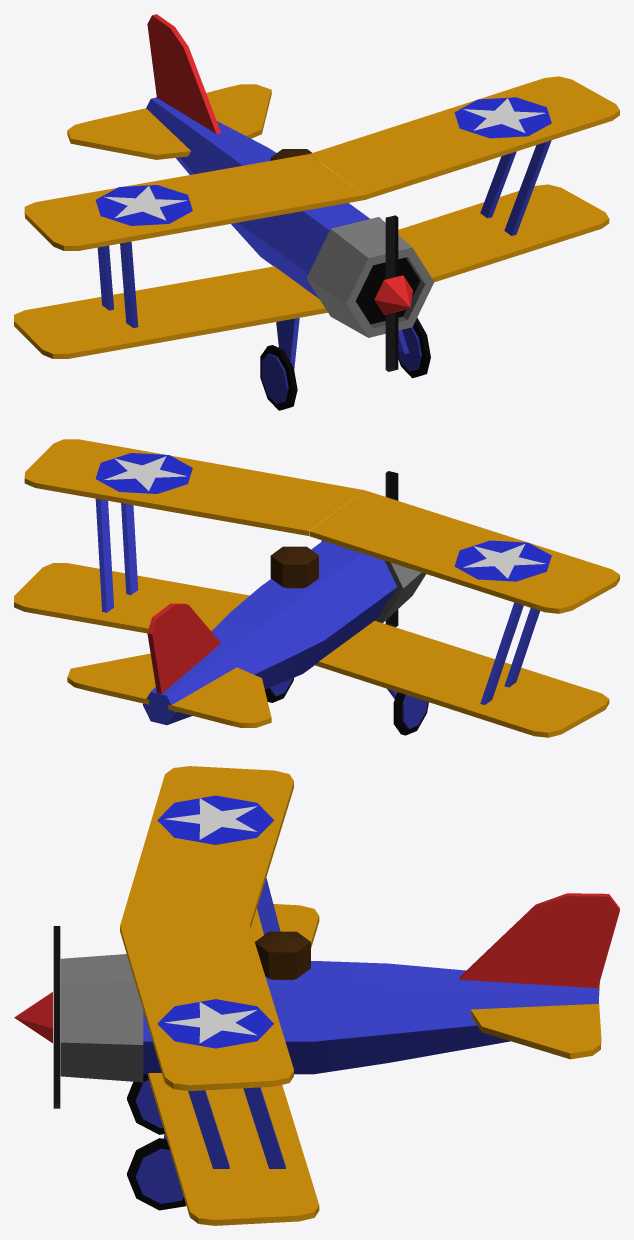
File: biplane_player.glb
3 renders of one model, top to bottom at view 1: azimuth 30°, elevation 25°; view 2: azimuth 150°, elevation 25°; view 3: azimuth 270°, elevation 25°, orthographic. The views are drawn at different scales.
Parts seen in each view (by area): view 1: hero_biplane, prop; view 2: hero_biplane, prop; view 3: hero_biplane, prop.
Part boxes in pixels (<box>): hero_biplane: <box>14,14,619,410</box>; prop: <box>385,215,398,371</box>; hero_biplane: <box>14,439,619,737</box>; prop: <box>385,471,398,627</box>; hero_biplane: <box>14,766,619,1225</box>; prop: <box>53,926,60,1108</box>.
Size of the model in its own units: 11.6 by 4.69 by 9.31.
